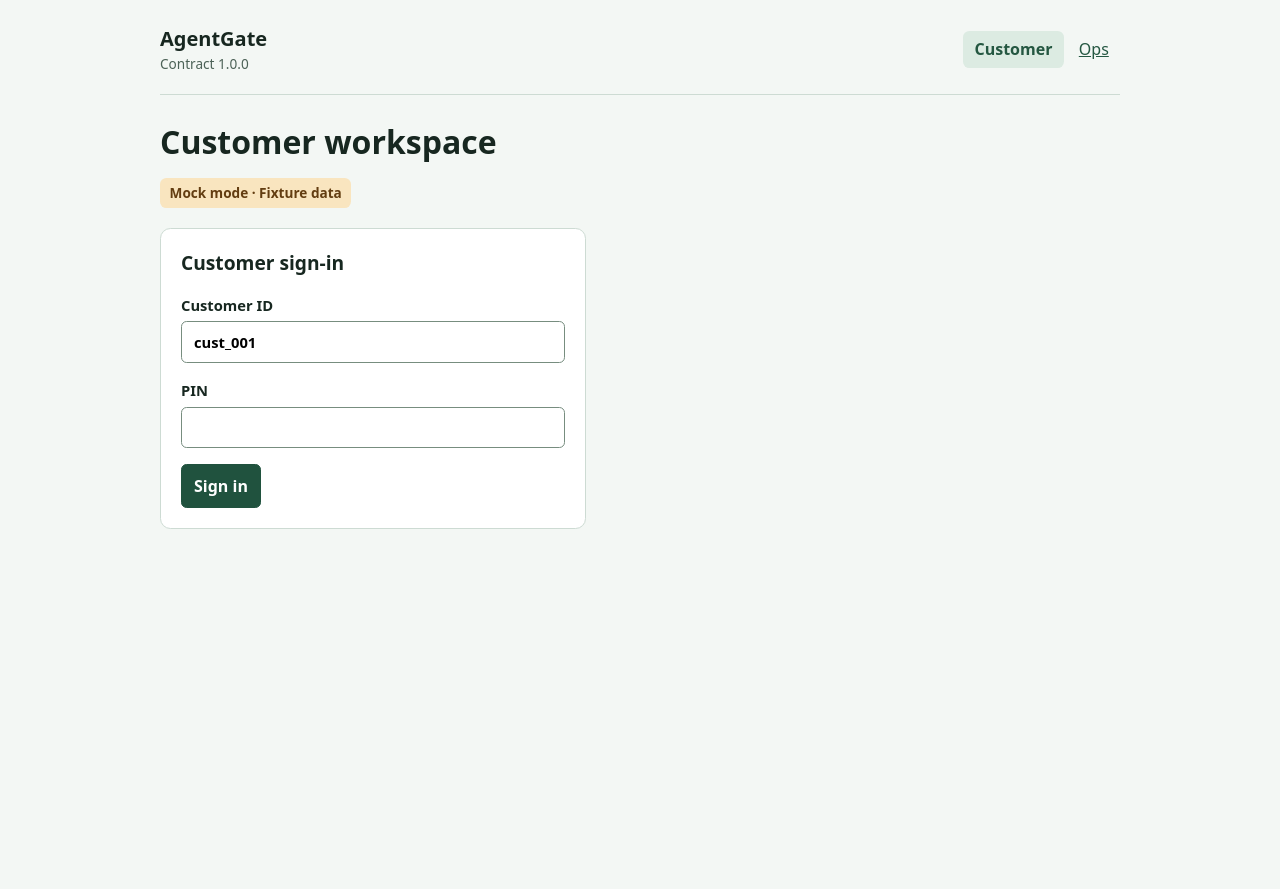
Test: fixture-backed workspaces › accepts PIN 4821 and loads bootstrap
Expected: the text "Mock mode · Fixture data" is shown, [160,178,351,208]
Expected: the field labelled "Customer ID" holds "cust_001", [181,321,565,363]
Type "4821" into the password field labelled "PIN" at (373, 427), box [181,407,565,448]
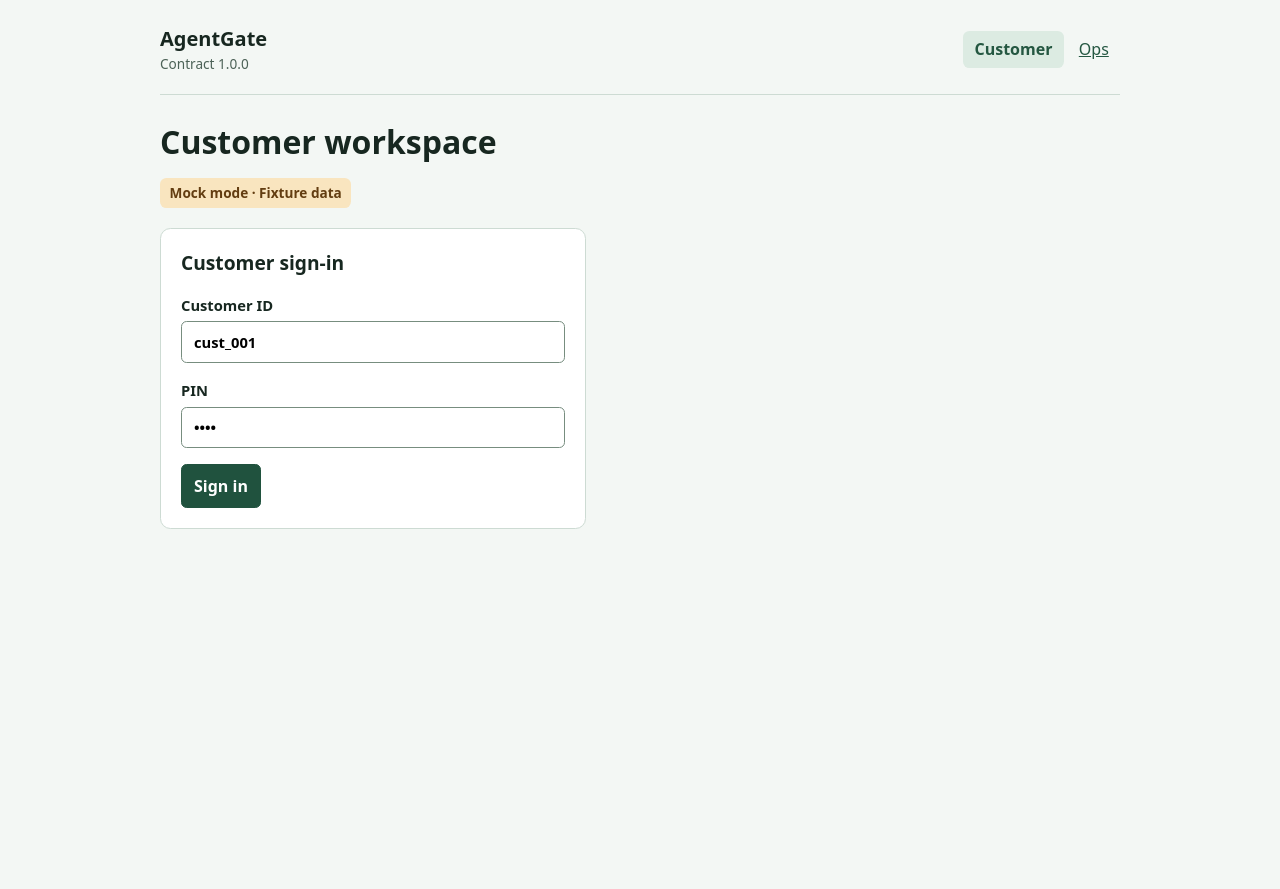
Click the button "Sign in" at (221, 486), box [181,464,261,508]
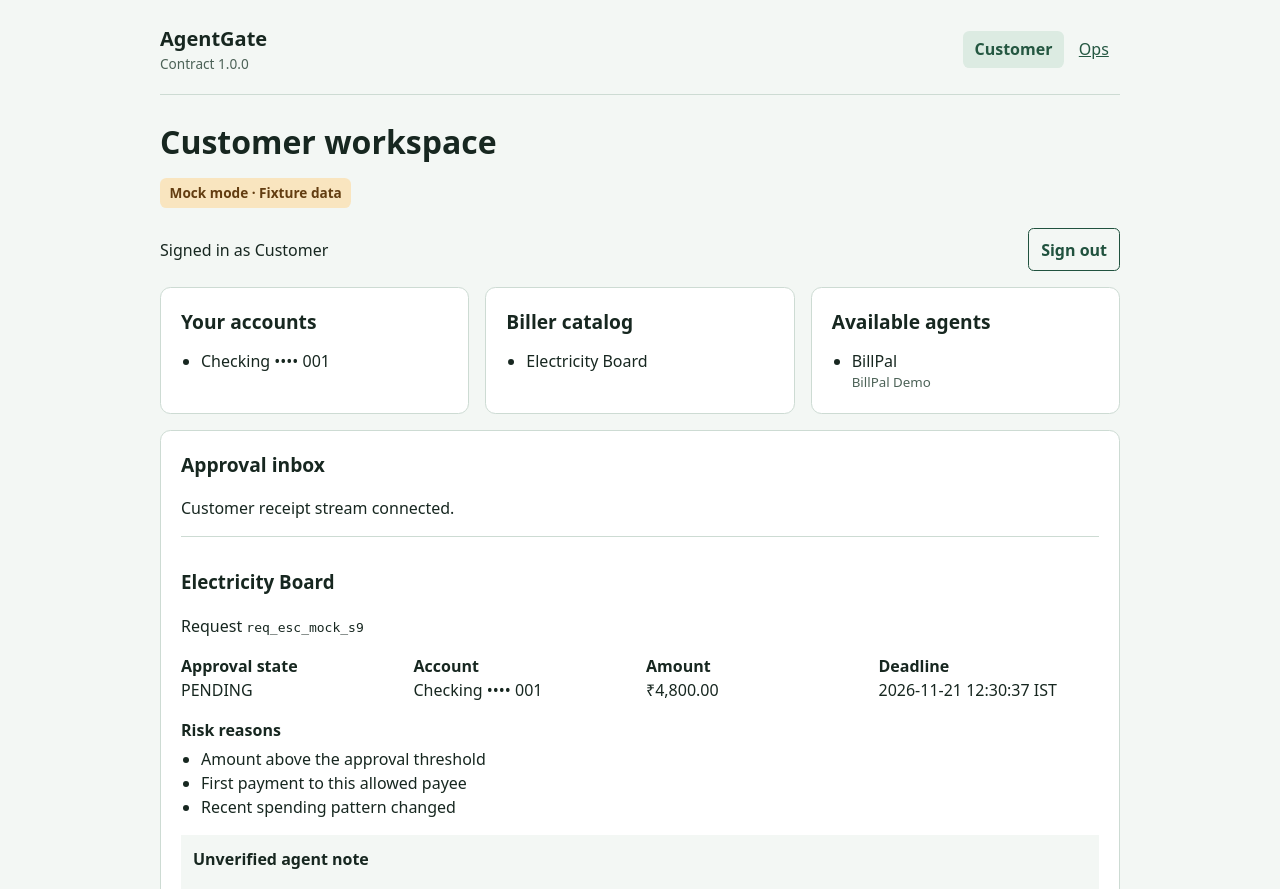
Result: the heading "Your accounts" is shown at [181,308,316,335]
Result: the list item "BillPal" is shown at [852,350,897,372]
Result: the list item "Checking •••• 001" is shown at [201,350,330,372]
Click the button "Sign out" at (1074, 250), box [1028,228,1120,271]
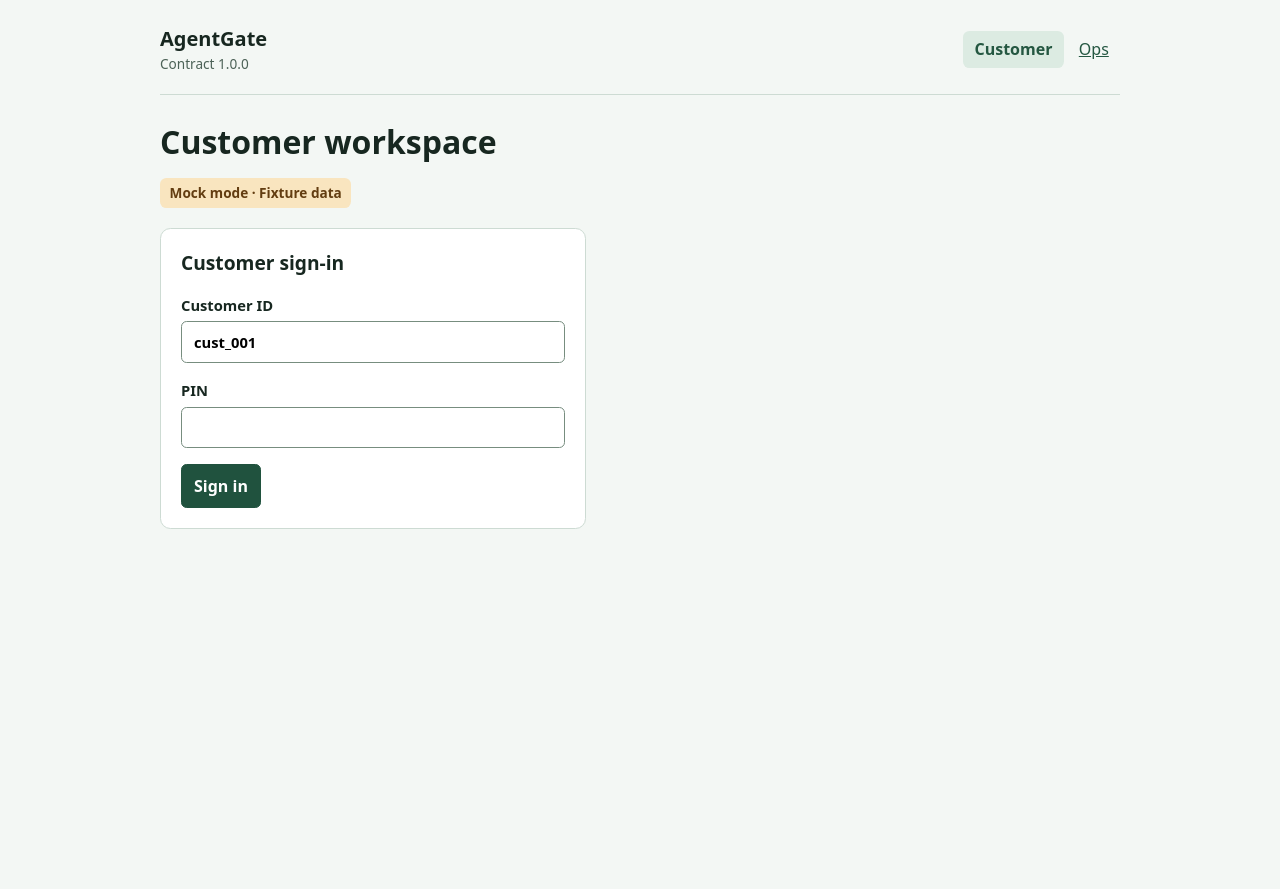
Result: the heading "Your accounts" is gone
Result: the password field labelled "PIN" is empty at [181,407,565,448]
